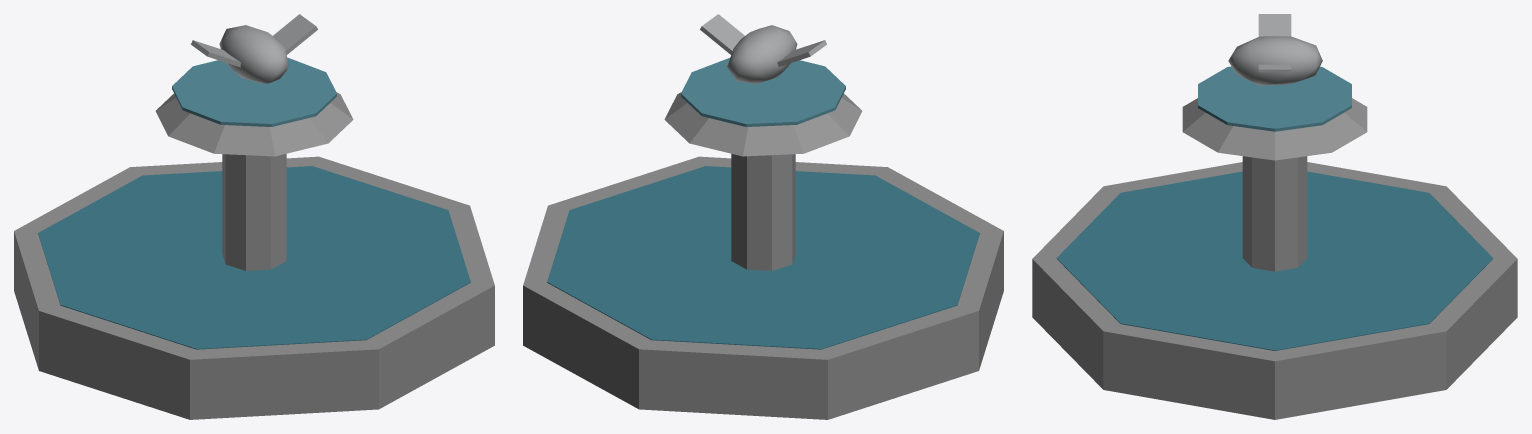
File: fountain.glb
3 renders of one model, left to right at view 1: azimuth 30°, elevation 25°; view 2: azimuth 150°, elevation 25°; view 3: azimuth 270°, elevation 25°, orthographic. The views are drawn at different scales.
Visible parts, largest first — view 1: fountain; view 2: fountain; view 3: fountain.
Boxes of the visible parts, x1,y1,x2,y2 form: fountain: [14, 14, 494, 419]; fountain: [523, 14, 1003, 419]; fountain: [1032, 14, 1517, 419].
Size of the model in its own units: 6 by 3.79 by 6.
